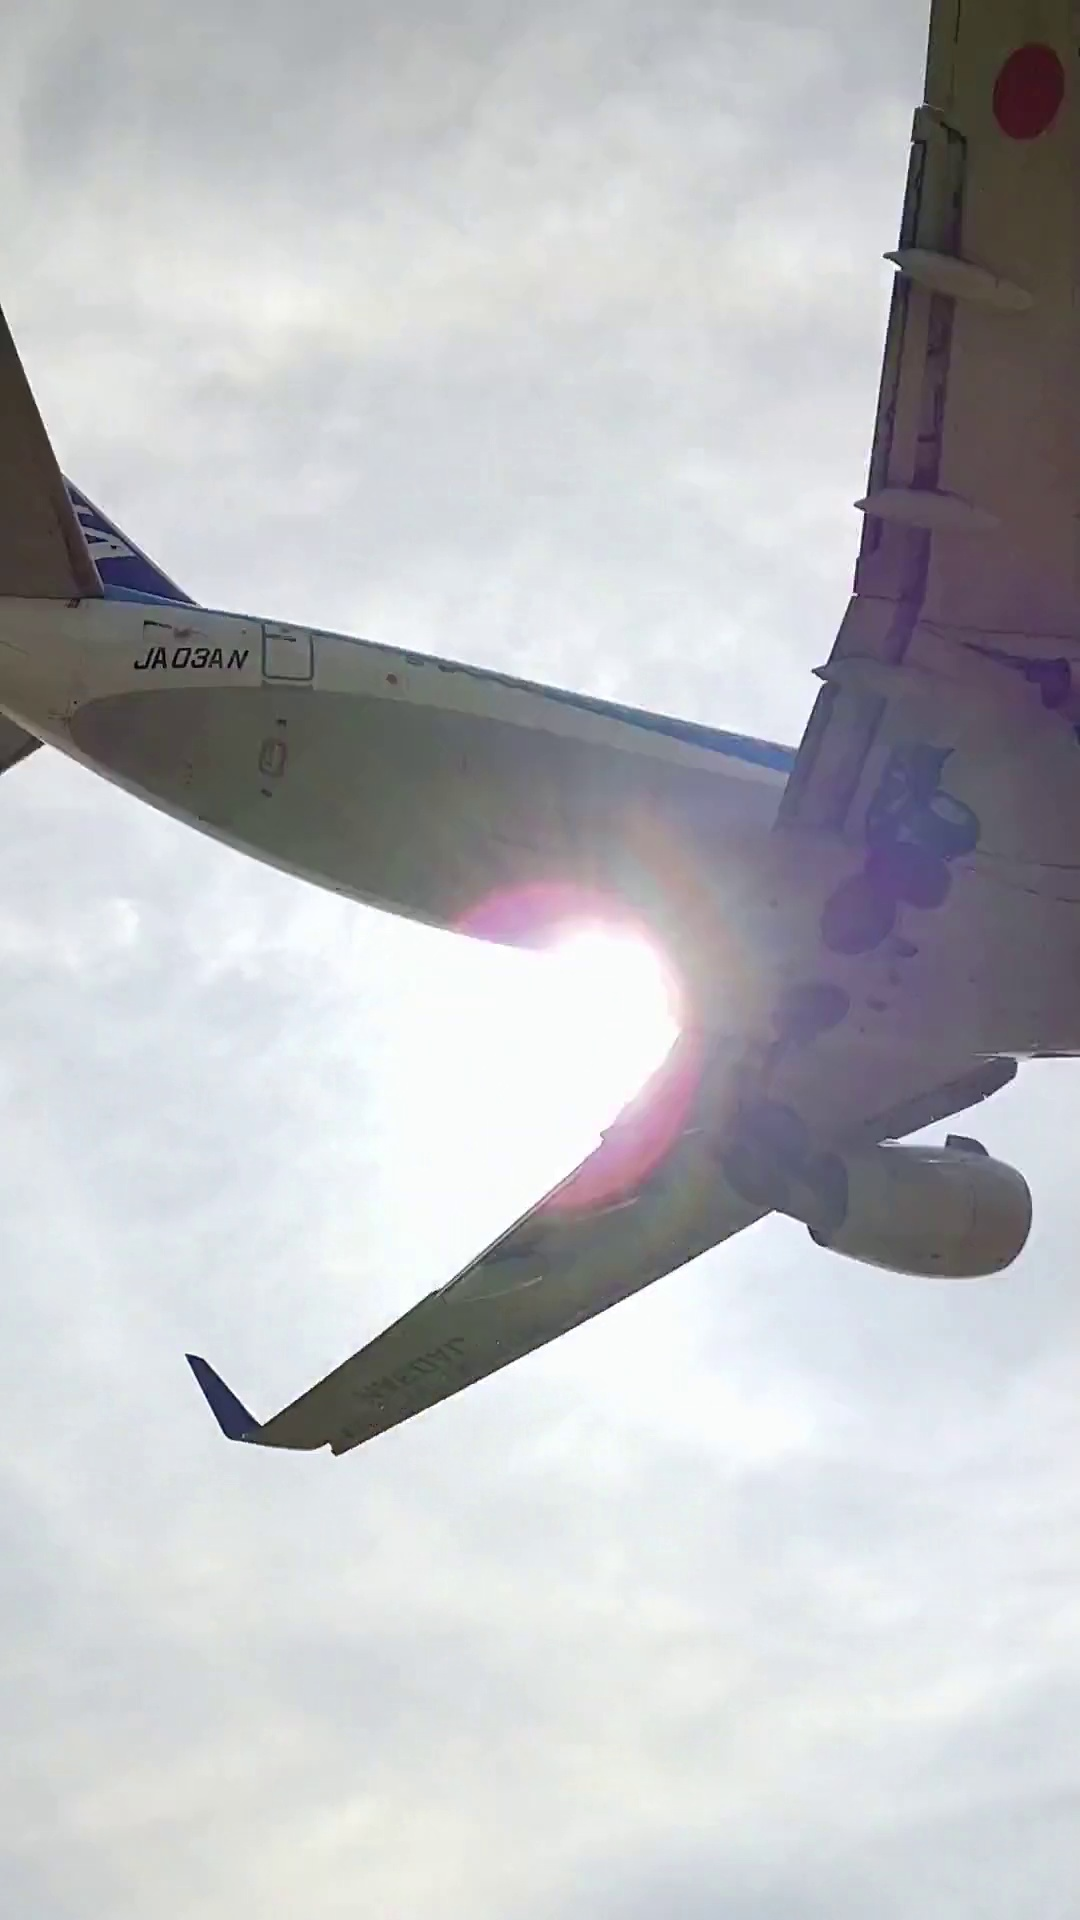plane: (1, 0, 1080, 1499)
